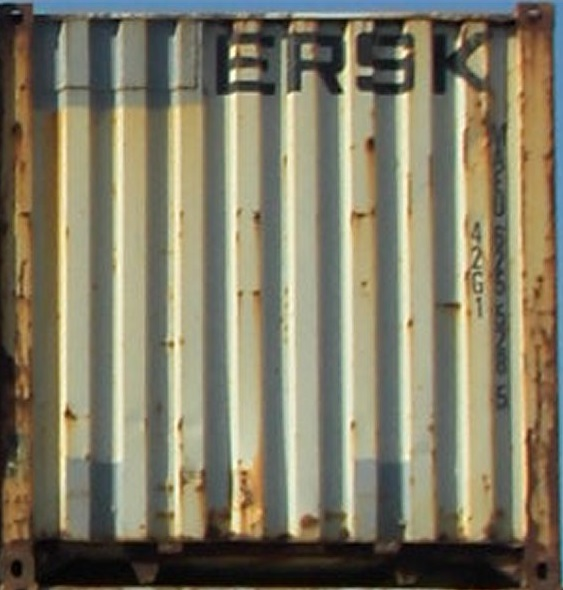container_no_door: (9, 3, 551, 583)
